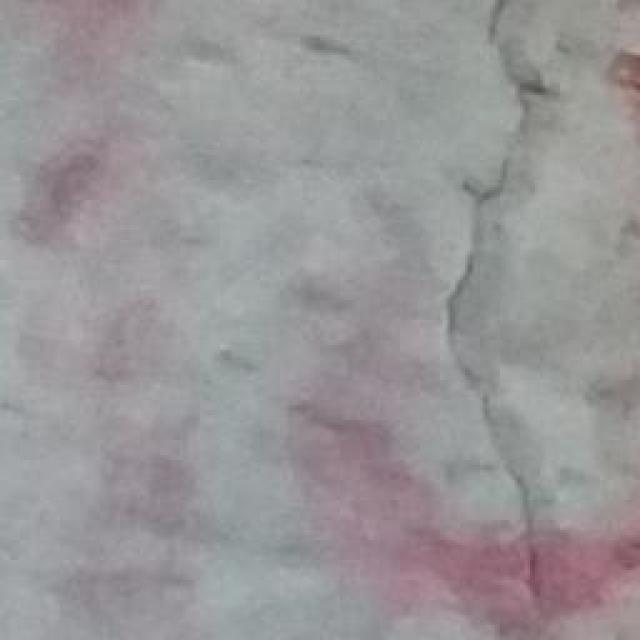Radial: (412, 0, 598, 640)
